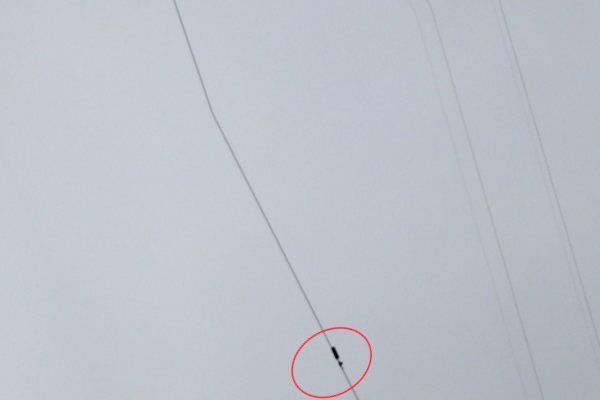damper_defect: (329, 345, 344, 370)
